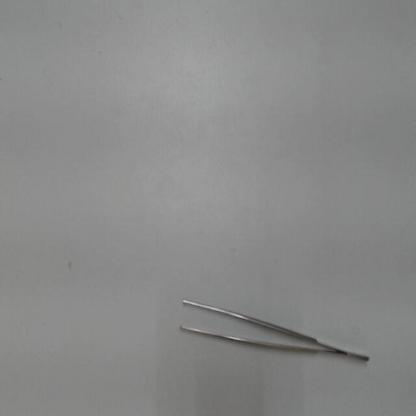Gillies Toothed Dissector: (170, 291, 375, 373)
